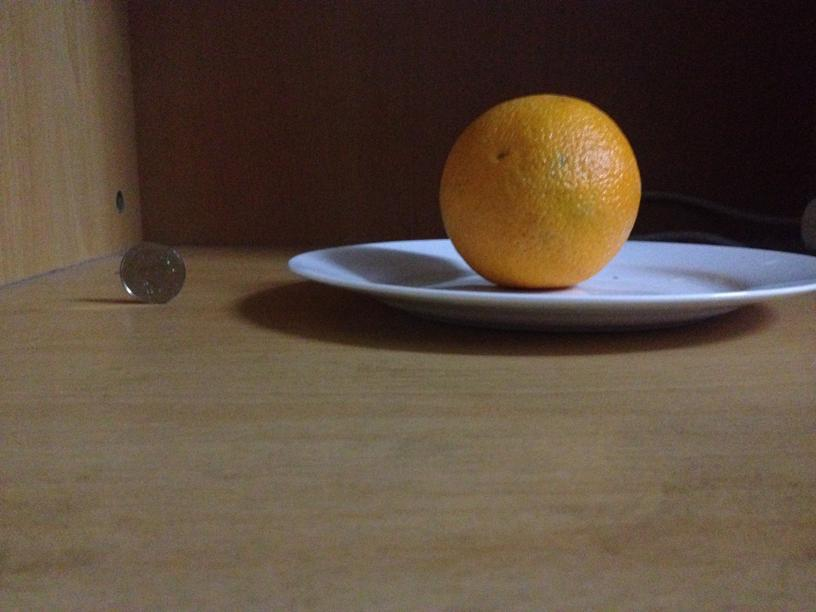coin: (121, 239, 186, 303)
orange: (440, 89, 639, 289)
